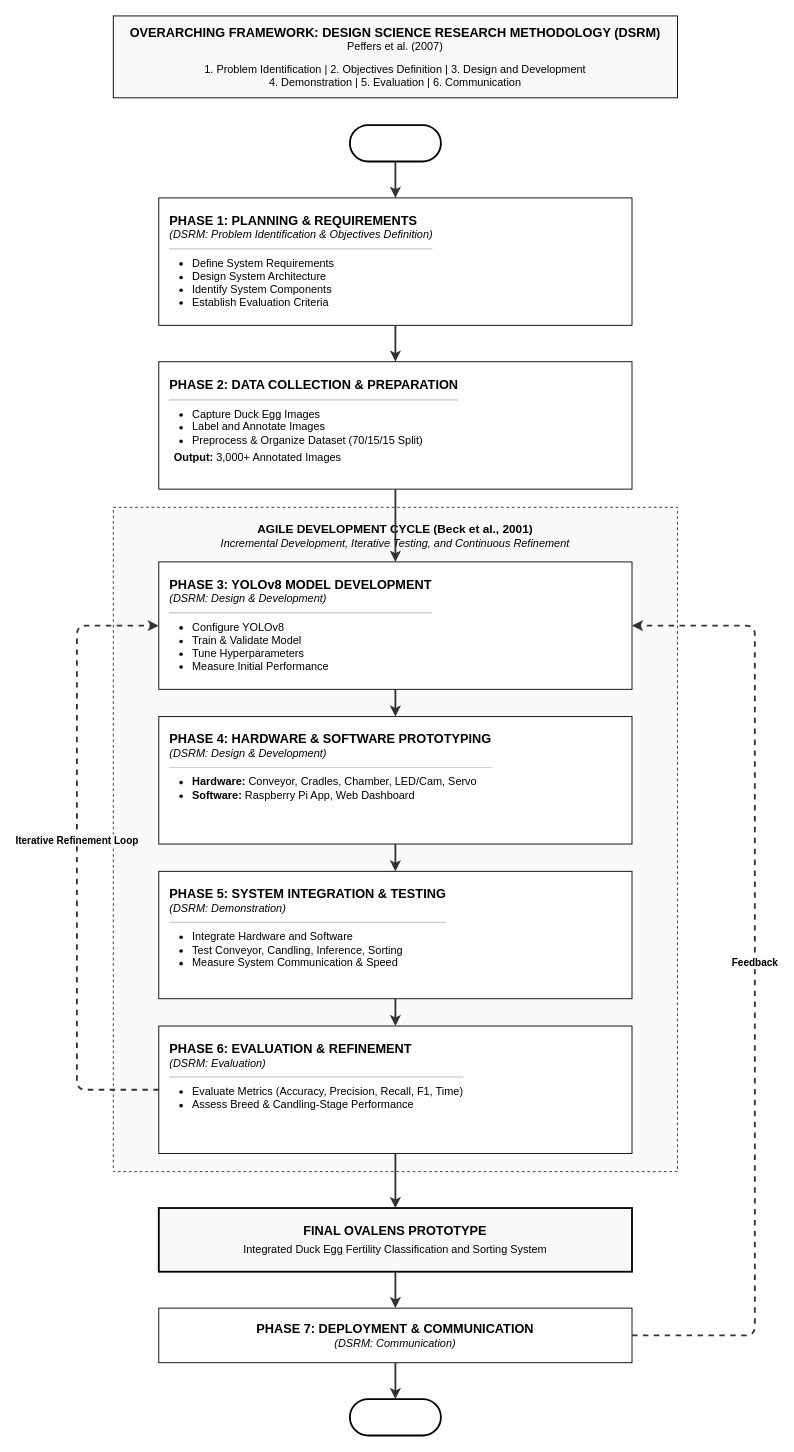
The diagram is 794 pixels wide and 1452 high, and some of its shapes have lost their labels. Each missing label, with the centre of its shape:
END: (x=395, y=1417)
START: (x=395, y=143)
